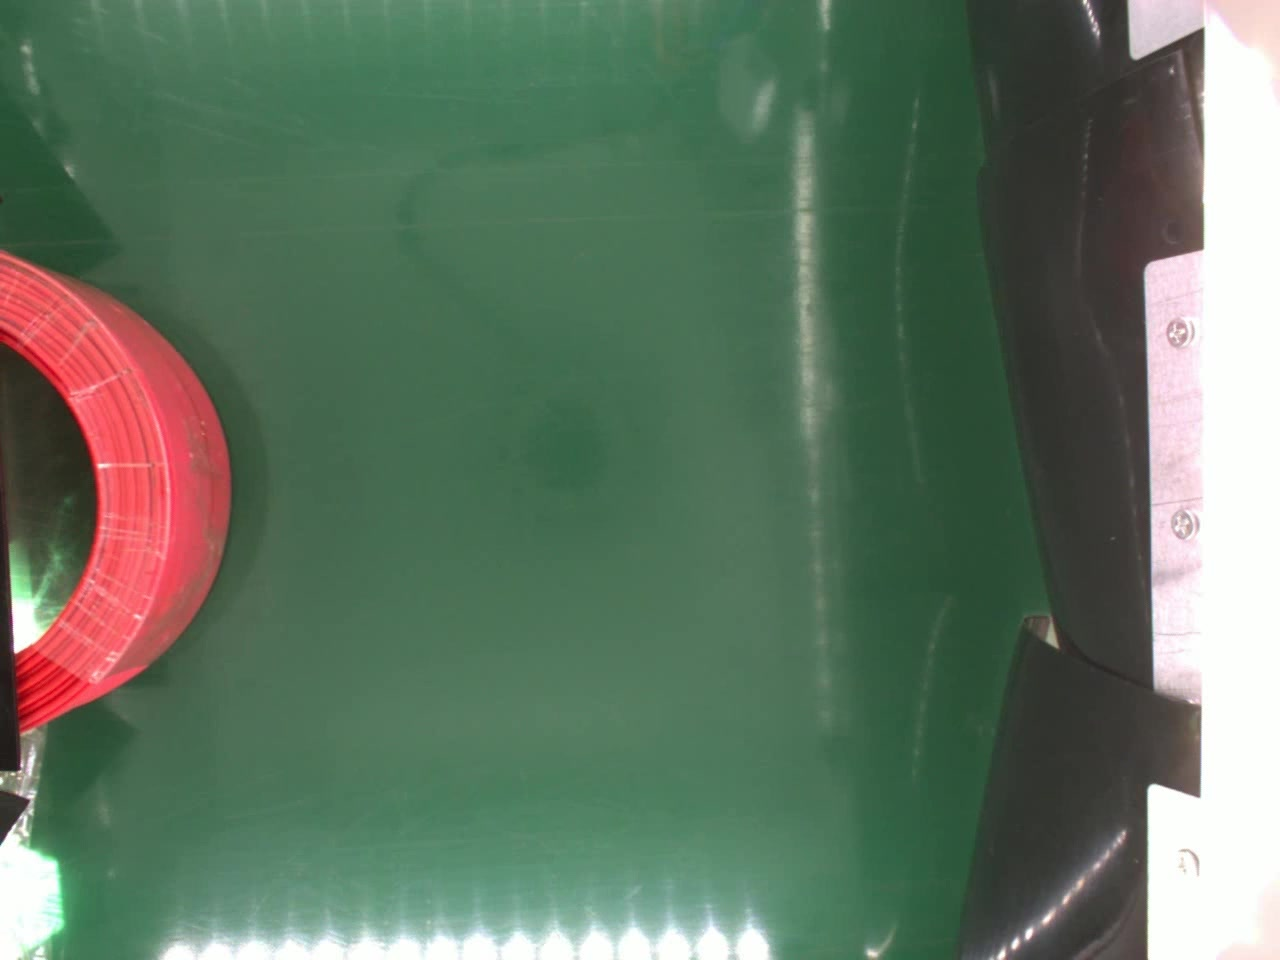red: (0, 247, 233, 728)
